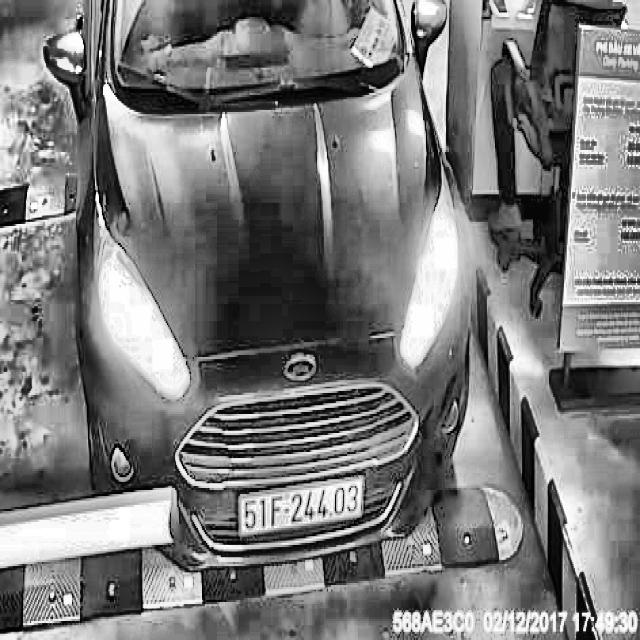plate: (235, 474, 367, 543)
